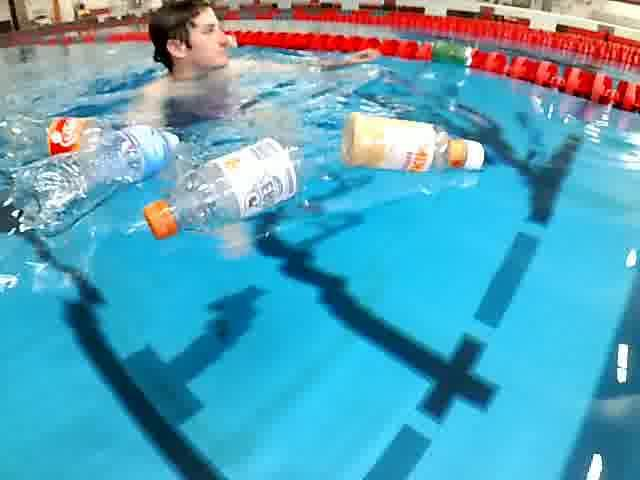Bottle: (138, 130, 314, 245), (12, 126, 185, 237), (337, 106, 488, 192), (0, 115, 137, 169)
Can: (430, 40, 478, 72)
